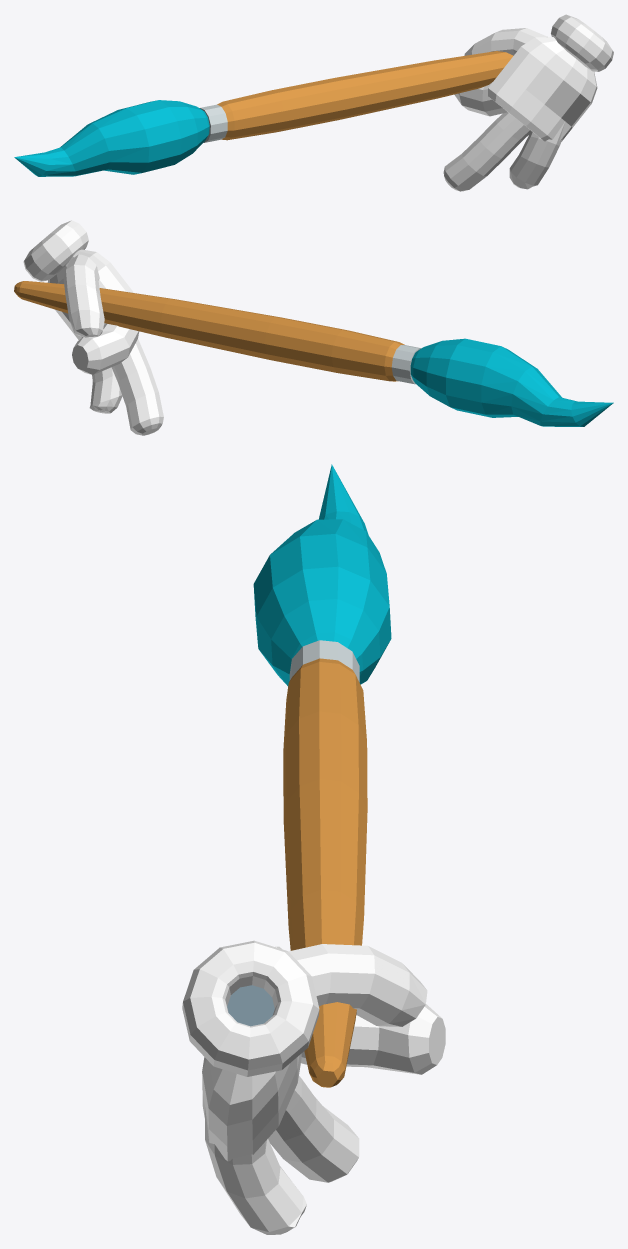
Rendered from Paintbrush Hand.FBX.
The picture shows the model from 3 angles, top to bottom: view 1: azimuth 30°, elevation 25°; view 2: azimuth 150°, elevation 25°; view 3: azimuth 270°, elevation 25°; orthographic projection. The views are drawn at different scales.
Parts seen in each view (by area): view 1: mesh41283942, mesh1647738915; view 2: mesh41283942, mesh1647738915; view 3: mesh41283942, mesh1647738915.
Part boxes in pixels (bbox=[...]): mesh41283942: bbox=[14, 51, 513, 176]; mesh1647738915: bbox=[443, 14, 613, 191]; mesh41283942: bbox=[14, 281, 613, 426]; mesh1647738915: bbox=[23, 220, 163, 435]; mesh41283942: bbox=[253, 464, 391, 1087]; mesh1647738915: bbox=[182, 940, 445, 1234].
Bounding box in the file's own units: 1.21 × 0.3299 × 0.2397.
